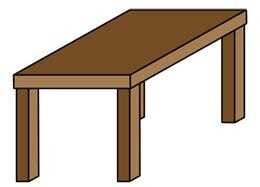obstacle: (13, 9, 246, 181)
